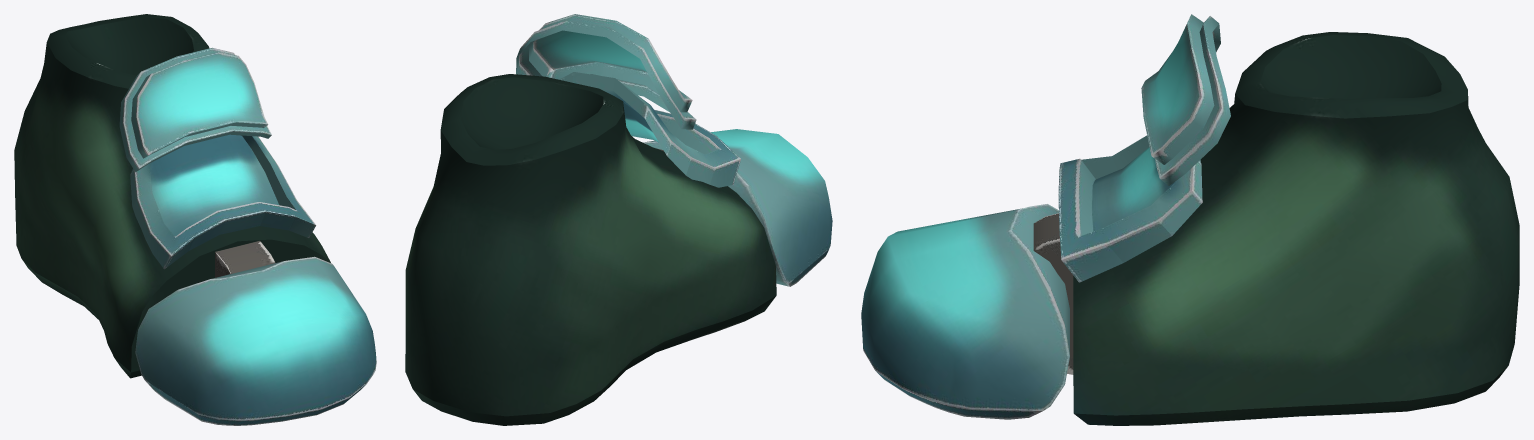
Rendered from footL.fbx.
3 views of the same model, side by side, from view 1: azimuth 30°, elevation 25°; view 2: azimuth 150°, elevation 25°; view 3: azimuth 270°, elevation 25° (orthographic). The views are drawn at different scales.
Parts seen in each view (by area): view 1: matte_0, metalic_1, metalic_0.003; view 2: matte_0, metalic_0.003, metalic_1; view 3: matte_0, metalic_1, metalic_0.003.
Boxes of the visible parts, x1,y1,x2,y2 form: matte_0: (14,14,330,378); metalic_1: (135,256,376,425); metalic_0.003: (119,47,316,269); matte_0: (405,74,776,425); metalic_0.003: (516,14,740,187); metalic_1: (643,129,832,286); matte_0: (1033,32,1519,425); metalic_1: (861,204,1069,419); metalic_0.003: (1058,14,1230,282).
Size of the model in its own units: 374 by 789 by 442.
